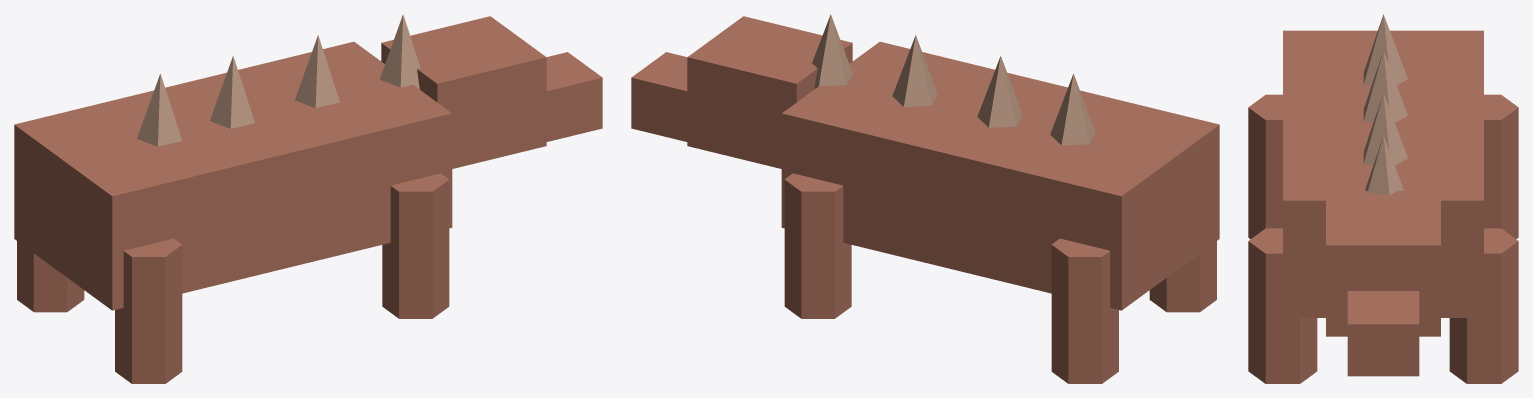
File: SM_BurrHound.fbx
3 views of the same model, side by side, from view 1: azimuth 30°, elevation 25°; view 2: azimuth 150°, elevation 25°; view 3: azimuth 270°, elevation 25° (orthographic). The views are drawn at different scales.
Parts seen in each view (by area): view 1: SM_BurrHound; view 2: SM_BurrHound; view 3: SM_BurrHound.
Boxes of the visible parts, bbox=[...] form: SM_BurrHound: bbox=[14, 14, 602, 383]; SM_BurrHound: bbox=[631, 14, 1219, 383]; SM_BurrHound: bbox=[1248, 14, 1518, 383].
Bounding box in the file's own units: 2.15 × 0.975 × 0.94.
